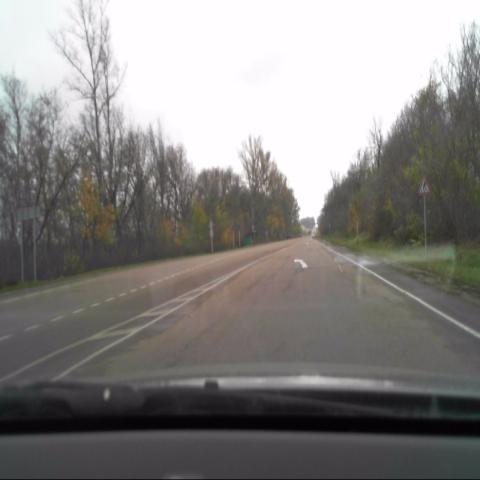1_22: (418, 173, 429, 196)
